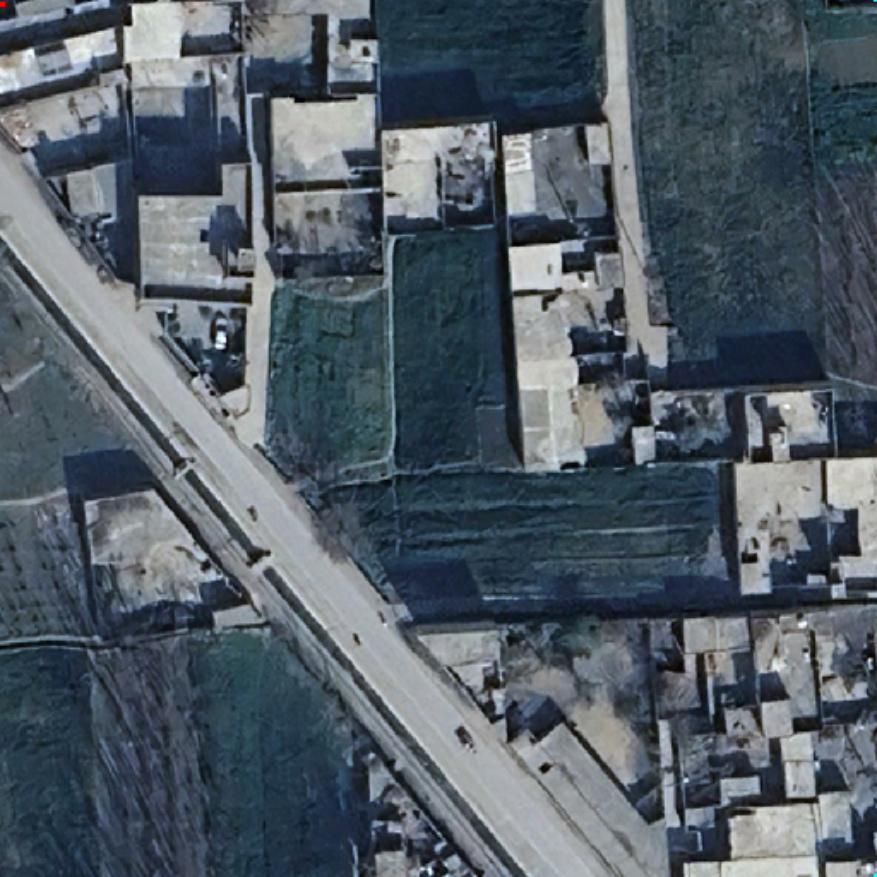Solarpanel: (31, 44, 75, 78)
